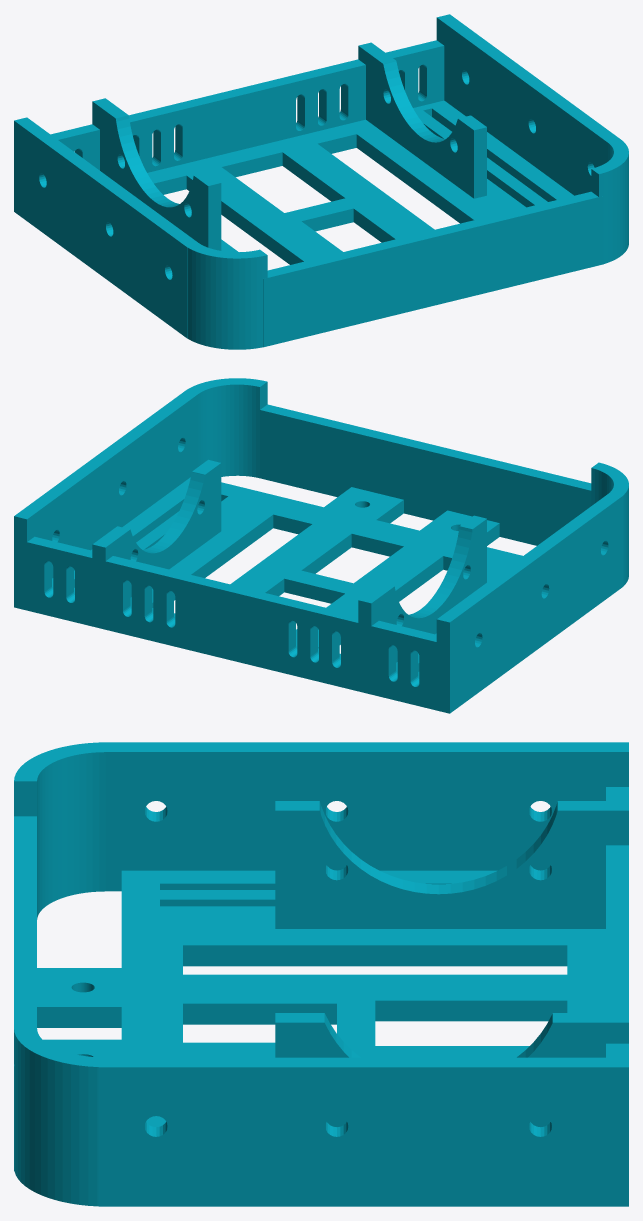
File: Car-Top.glb
3 renders of one model, top to bottom at view 1: azimuth 30°, elevation 25°; view 2: azimuth 150°, elevation 25°; view 3: azimuth 270°, elevation 25°, orthographic. The views are drawn at different scales.
Parts seen in each view (by area): view 1: Mesh_Mesh_head_geo.001_lambert2SG.001; view 2: Mesh_Mesh_head_geo.001_lambert2SG.001; view 3: Mesh_Mesh_head_geo.001_lambert2SG.001.
Boxes of the visible parts, bbox=[...] form: Mesh_Mesh_head_geo.001_lambert2SG.001: bbox=[14, 14, 628, 349]; Mesh_Mesh_head_geo.001_lambert2SG.001: bbox=[14, 378, 628, 713]; Mesh_Mesh_head_geo.001_lambert2SG.001: bbox=[14, 742, 628, 1206].
Size of the model in its own units: 100 by 20 by 80.
